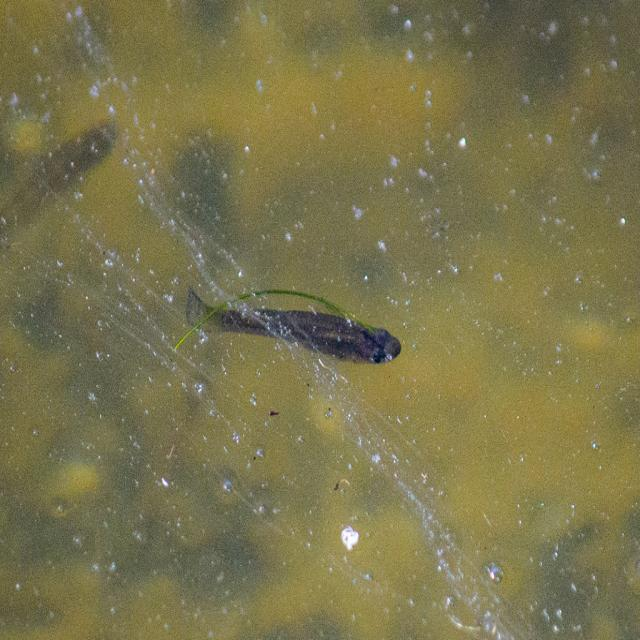Sivrisinek Baligi: (183, 283, 403, 367)
